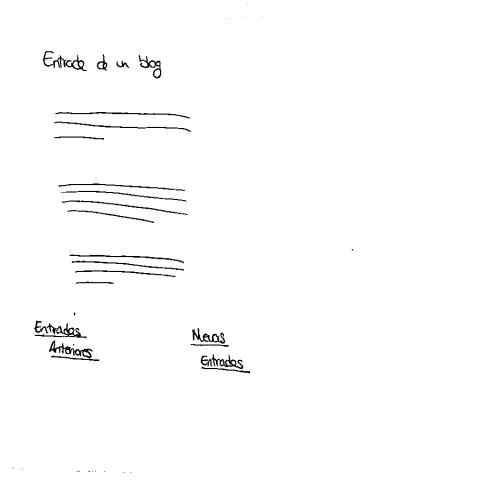Paragraph: (56, 180, 193, 227), (53, 108, 195, 143), (69, 251, 187, 288)
